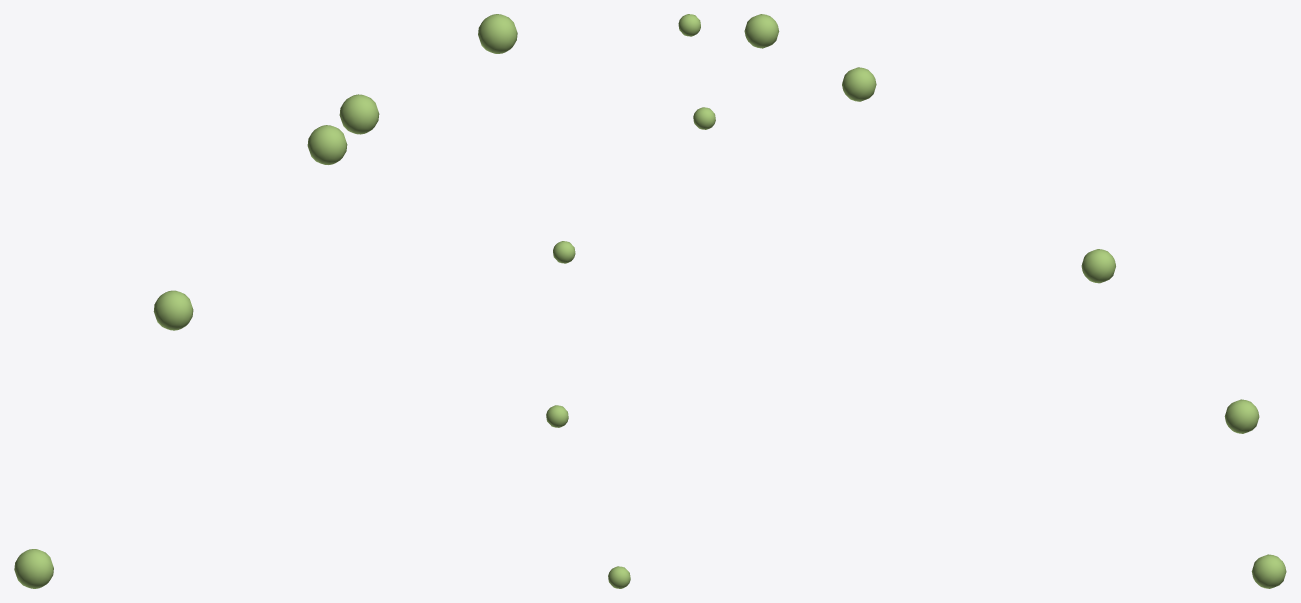
File: lateral-sacral-nodes-l.glb
3 renders of one model, left to right at view 1: azimuth 30°, elevation 25°; view 2: azimuth 150°, elevation 25°; view 3: azimuth 270°, elevation 25°, orthographic. The views are drawn at different scales.
Visible parts, largest first — view 1: Lateral sacral nodes.l; view 2: Lateral sacral nodes.l; view 3: Lateral sacral nodes.l.
Boxes of the visible parts, x1=… form: Lateral sacral nodes.l: x1=14, y1=14, x2=517, y2=588; Lateral sacral nodes.l: x1=546, y1=14, x2=715, y2=588; Lateral sacral nodes.l: x1=744, y1=14, x2=1286, y2=588.
Bounding box in the file's own units: 0.0171 × 0.0531 × 0.0406.
